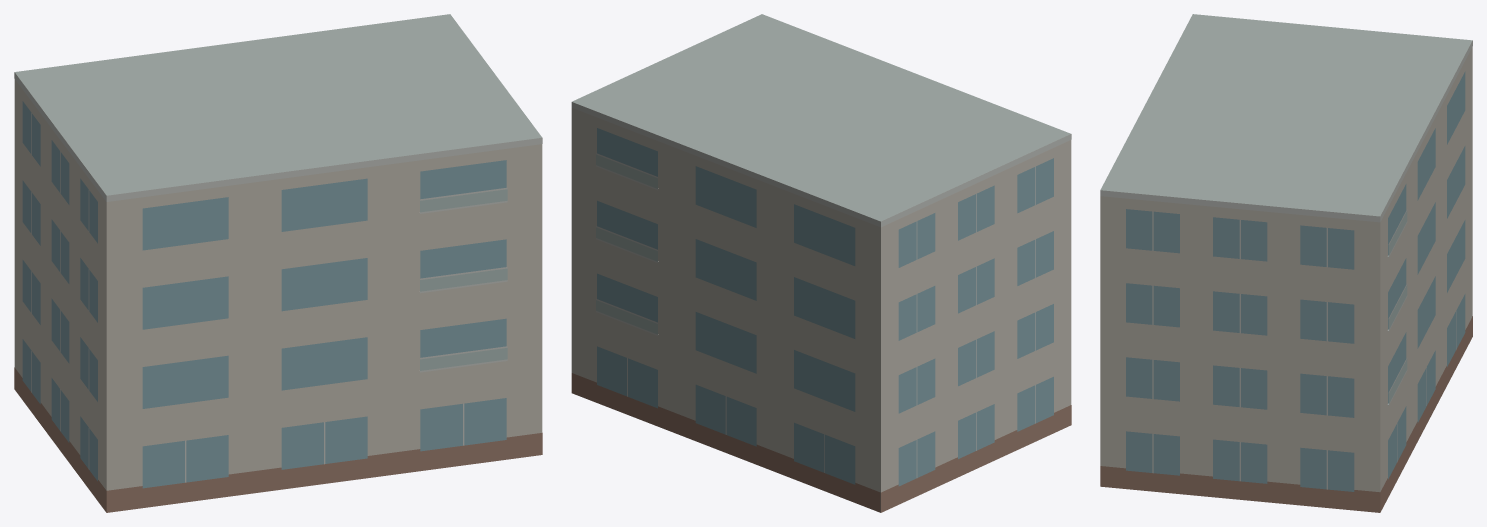
The model's file is residential-5dbc9da4-633c-4013-880a-642f0fc15e05.glb.
3 views of the same model, side by side, from view 1: azimuth 30°, elevation 25°; view 2: azimuth 150°, elevation 25°; view 3: azimuth 270°, elevation 25° (orthographic). The views are drawn at different scales.
Visible parts, largest first — view 1: residential-5dbc9da4-633c-4013-880a-642f0fc15e05.tmp; view 2: residential-5dbc9da4-633c-4013-880a-642f0fc15e05.tmp; view 3: residential-5dbc9da4-633c-4013-880a-642f0fc15e05.tmp.
Part boxes in pixels (x1=…): residential-5dbc9da4-633c-4013-880a-642f0fc15e05.tmp: x1=14, y1=14, x2=542, y2=512; residential-5dbc9da4-633c-4013-880a-642f0fc15e05.tmp: x1=571, y1=14, x2=1071, y2=512; residential-5dbc9da4-633c-4013-880a-642f0fc15e05.tmp: x1=1100, y1=14, x2=1472, y2=512.
Bounding box in the file's own units: 17.88 × 12.2 × 13.9.
